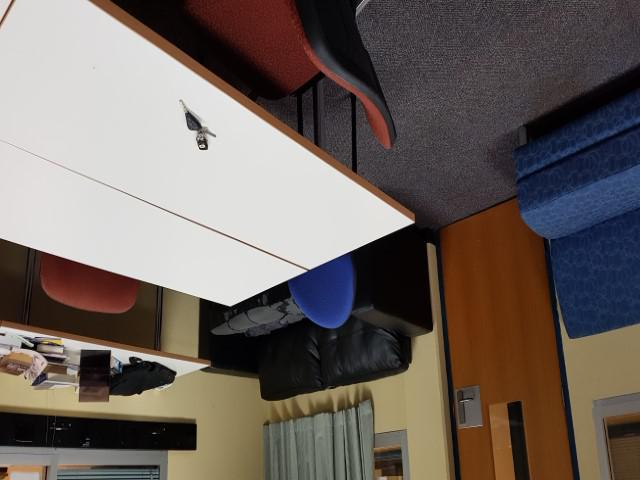key: (179, 99, 201, 130)
